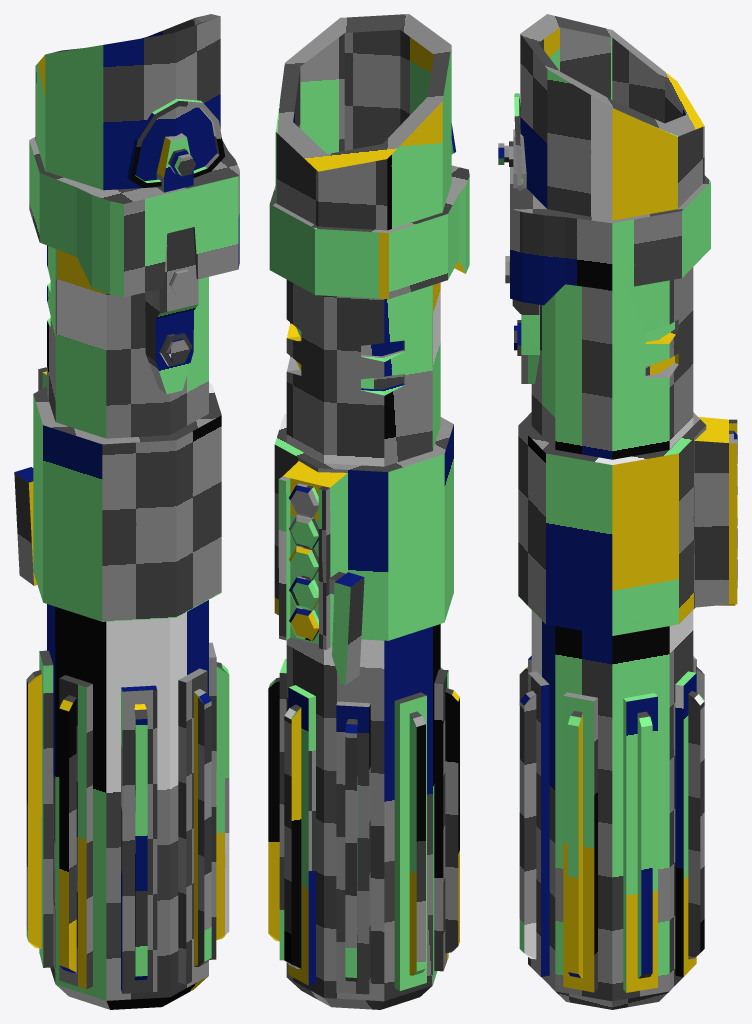
The model's file is Vader.obj.
3 renders of one model, left to right at view 1: azimuth 30°, elevation 25°; view 2: azimuth 150°, elevation 25°; view 3: azimuth 270°, elevation 25°, orthographic. The views are drawn at different scales.
Visible parts, largest first — view 1: Plane; view 2: Plane; view 3: Plane.
Boxes of the visible parts, bbox=[...] form: Plane: bbox=[14, 14, 239, 1009]; Plane: bbox=[268, 14, 469, 1009]; Plane: bbox=[498, 14, 737, 1009].
Bounding box in the file's own units: 3.07 × 16.32 × 3.73.
